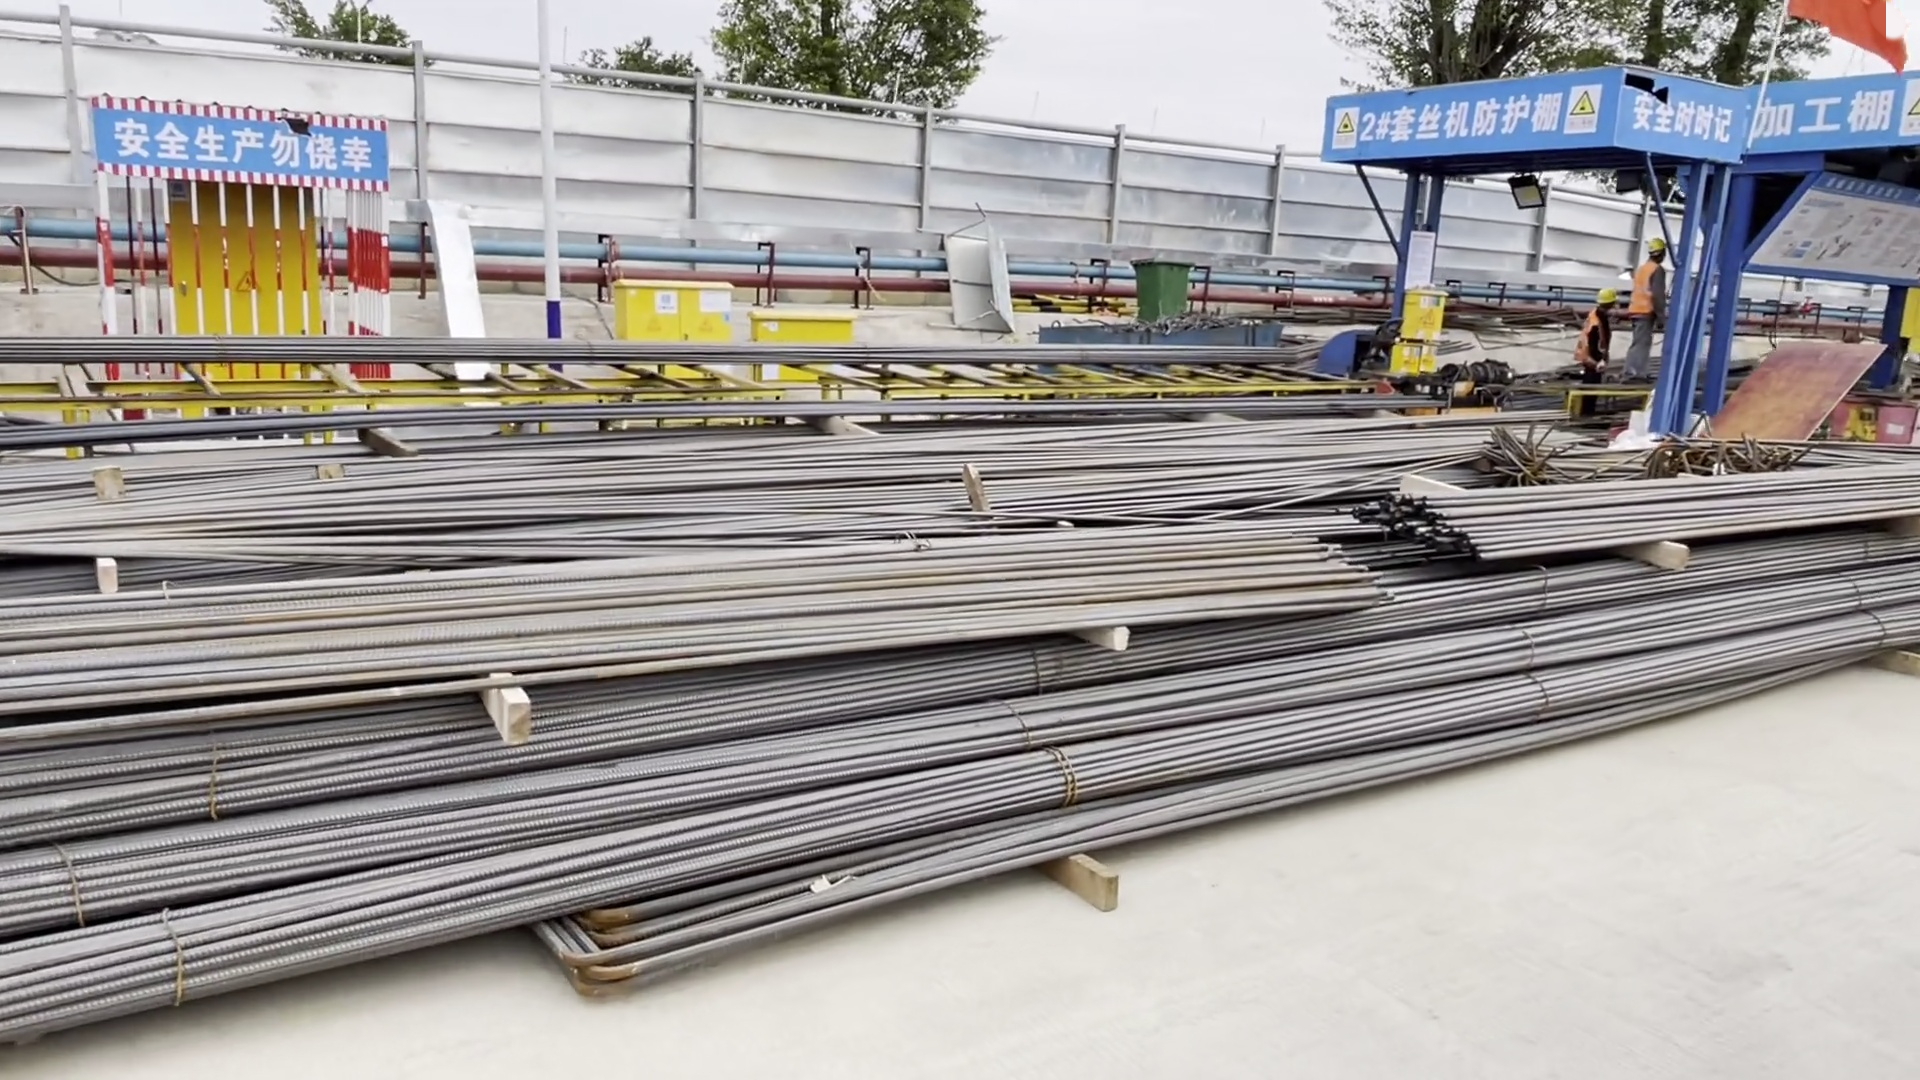ebox: (613, 273, 737, 359), (755, 317, 858, 385), (1391, 288, 1448, 385)
fence: (395, 53, 1379, 291)
helmet: (1648, 236, 1671, 253), (1600, 286, 1617, 304)
hopper: (1035, 315, 1285, 360)
person: (1623, 232, 1675, 383), (1581, 279, 1616, 382)
rebar: (1, 451, 1920, 1020)
slogan: (113, 105, 397, 181), (1332, 84, 1599, 146), (1753, 82, 1919, 145), (1627, 88, 1733, 145)
vest: (1627, 264, 1670, 319), (1580, 307, 1612, 361)
